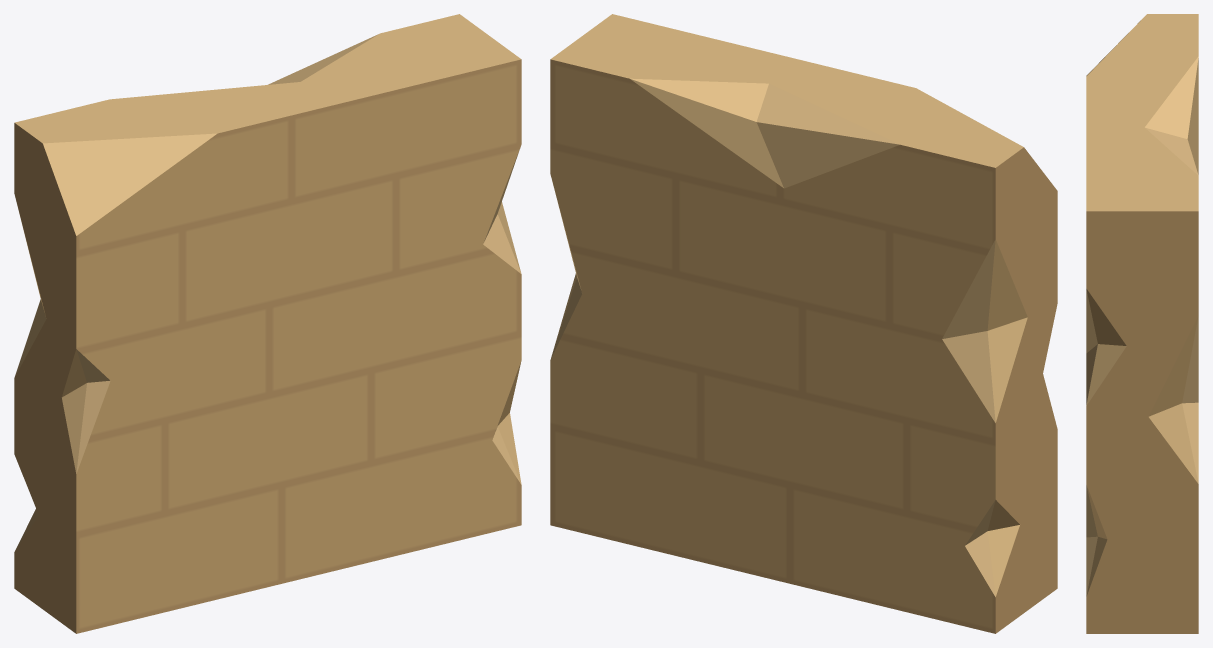
The model's file is ST_Env_Wall_07.fbx.
3 renders of one model, left to right at view 1: azimuth 30°, elevation 25°; view 2: azimuth 150°, elevation 25°; view 3: azimuth 270°, elevation 25°, orthographic. The views are drawn at different scales.
Visible parts, largest first — view 1: ST_Env_Wall_07; view 2: ST_Env_Wall_07; view 3: ST_Env_Wall_07.
Part boxes in pixels (bbox=[...]): ST_Env_Wall_07: bbox=[14, 14, 521, 633]; ST_Env_Wall_07: bbox=[550, 14, 1057, 633]; ST_Env_Wall_07: bbox=[1086, 14, 1198, 633].
Bounding box in the file's own units: 5 × 5 × 1.2.
